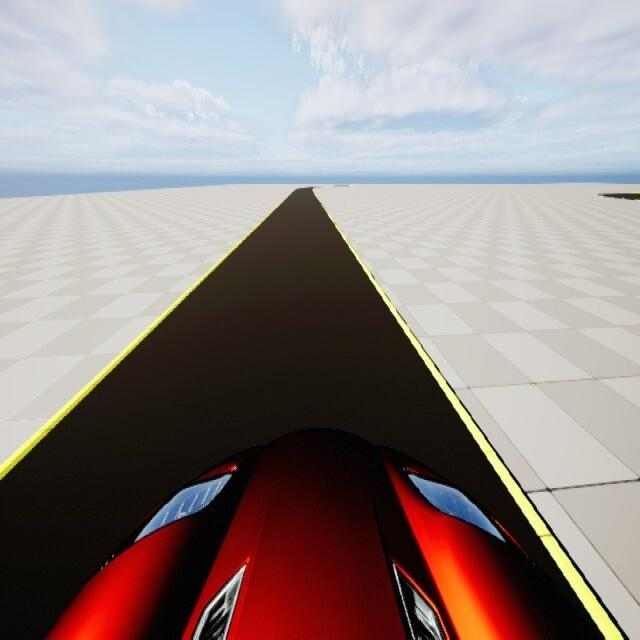lane: (0, 191, 601, 639)
